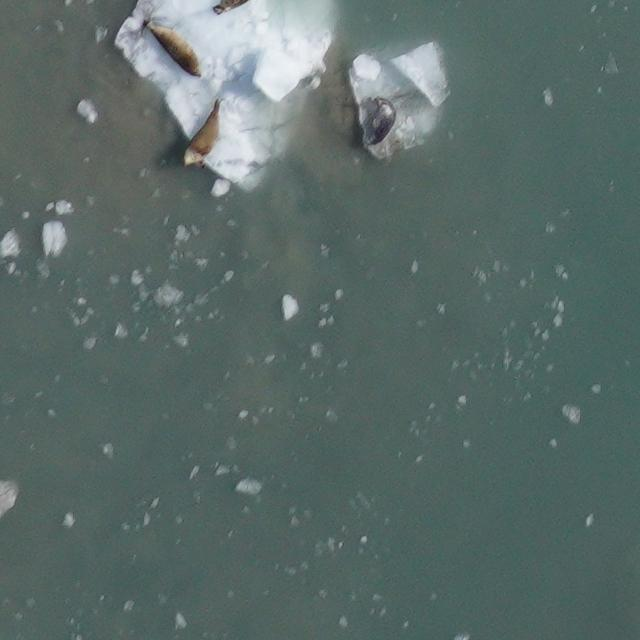seal: (136, 9, 216, 87), (171, 99, 241, 174)
